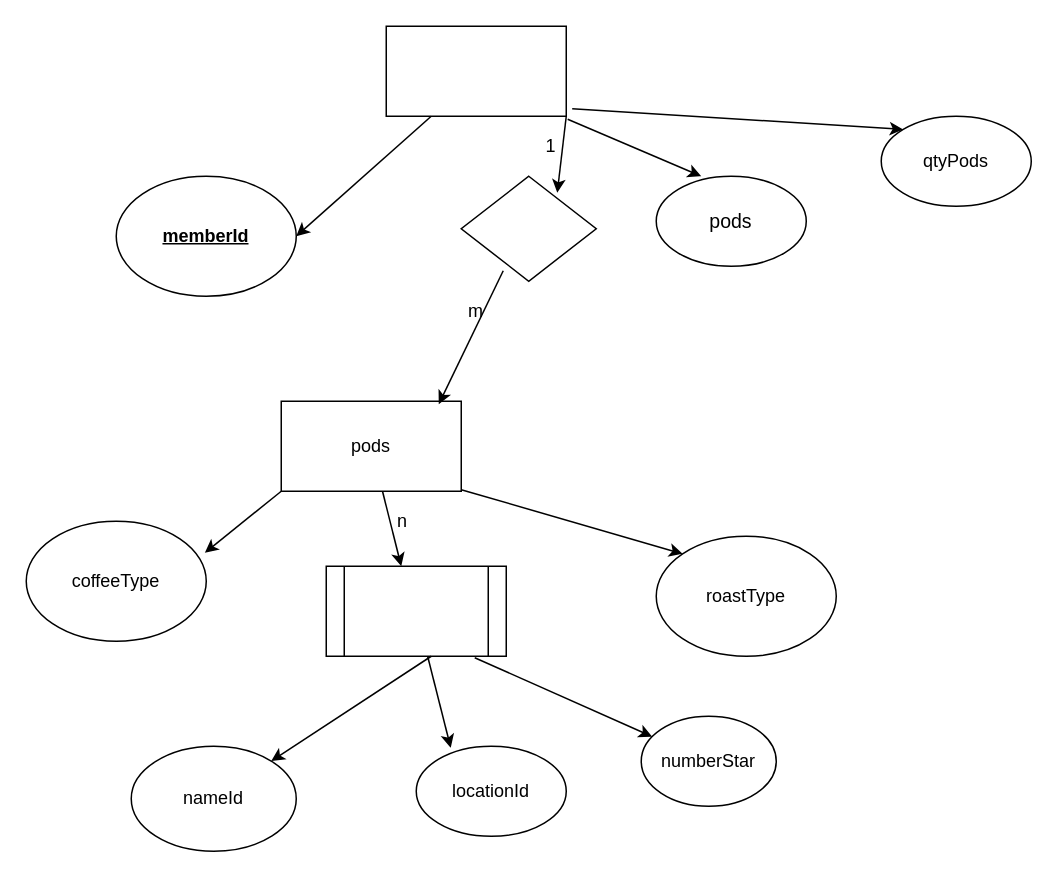
The diagram is 1058 pixels wide and 878 high, and some of its shapes have lost their labels. The box of each missing label's shape, as (x1, y1, x2, y2) in pixels:
buys: (460, 175, 596, 281)
customerF: (385, 25, 566, 116)
starRating: (325, 565, 506, 656)
